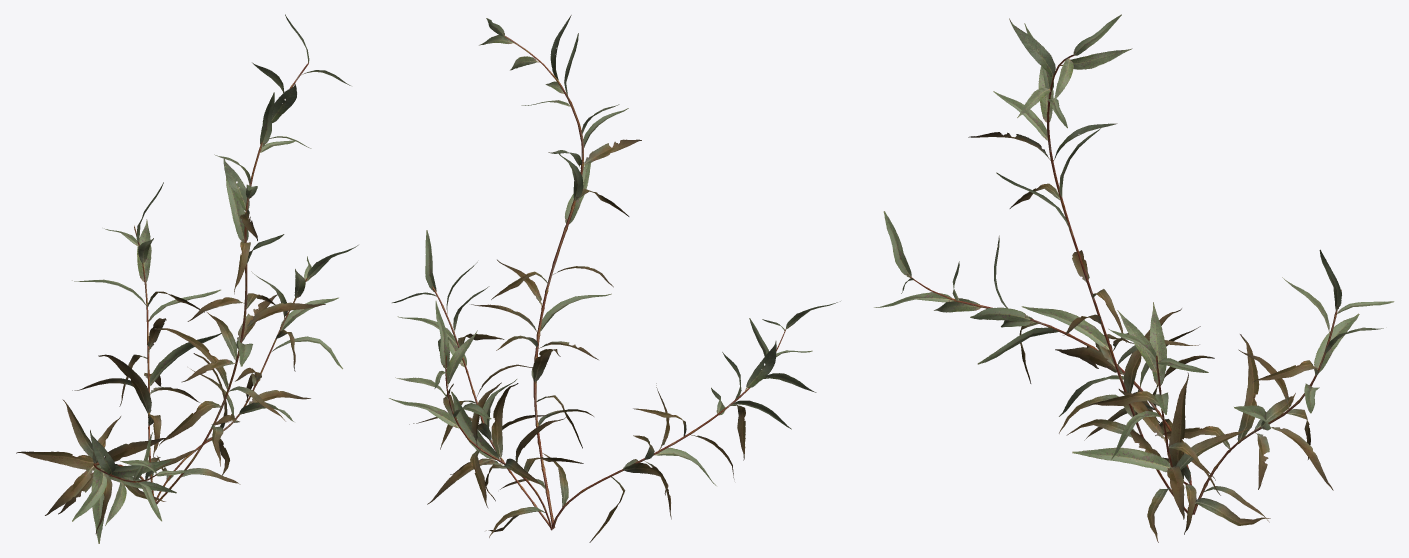
Rendered from UE_shrub_02_b.gltf.
3 views of the same model, side by side, from view 1: azimuth 30°, elevation 25°; view 2: azimuth 150°, elevation 25°; view 3: azimuth 270°, elevation 25° (orthographic). The views are drawn at different scales.
Visible parts, largest first — view 1: shrub_02_b; view 2: shrub_02_b; view 3: shrub_02_b.
Part boxes in pixels (box(x1,y1,x2,y2)): shrub_02_b: box(16, 14, 358, 543); shrub_02_b: box(389, 15, 840, 542); shrub_02_b: box(874, 14, 1394, 542).
Bounding box in the file's own units: 1.11 × 1.51 × 1.28.
1 material, 1 textured.
